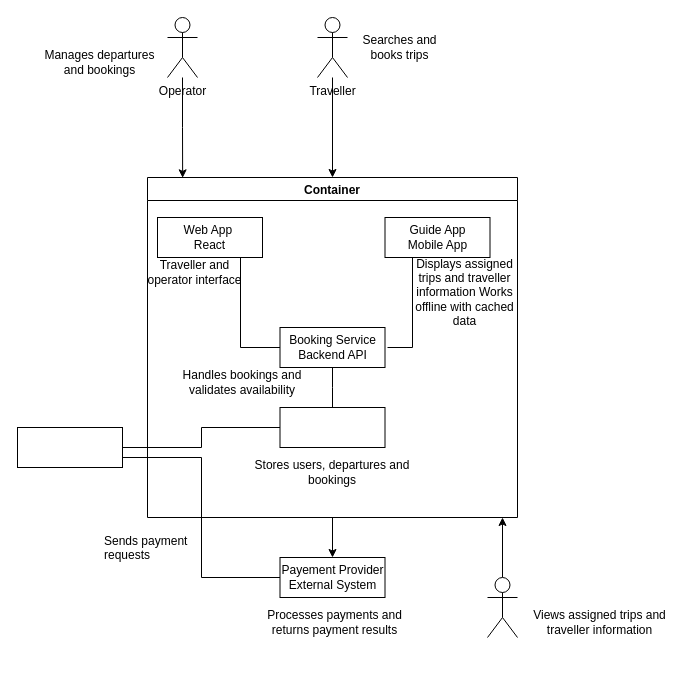
Some shapes in this 690 by 676 pixel diagram are drawn without their labels. The shapes that lost their labels are listed below. From the top down, each one's centre as x and y in pixels, then its label:
At point 69,447: "Booking Service".
At point 332,427: "Patuvaj Database PostgreSQL".
At point 502,607: "Guide".
